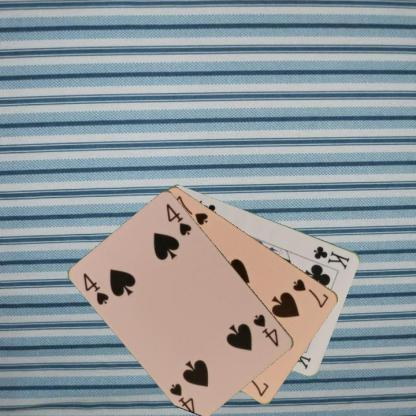4s: (80, 270, 111, 307), (251, 311, 280, 348)
7s: (290, 276, 331, 309)
Kc: (311, 243, 351, 271)
